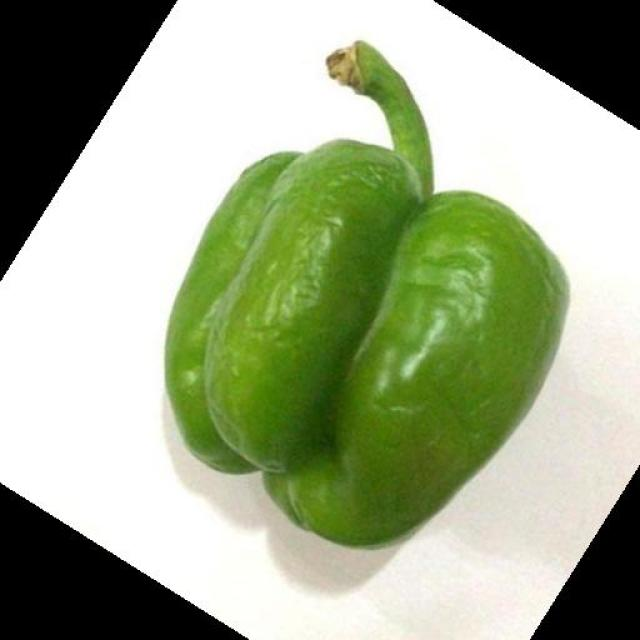Fresh_Capsicum: (197, 32, 568, 553)
